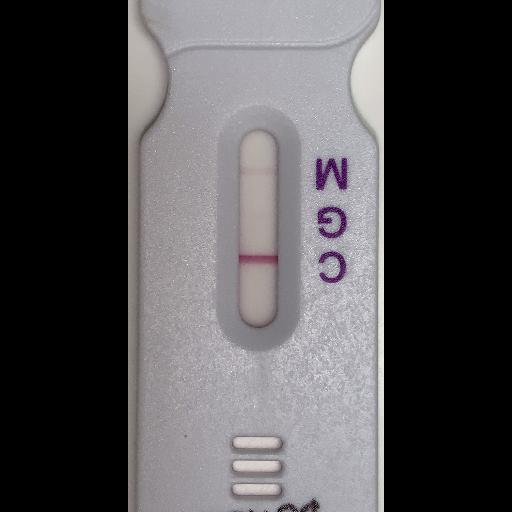Pos: (132, 1, 376, 511)
